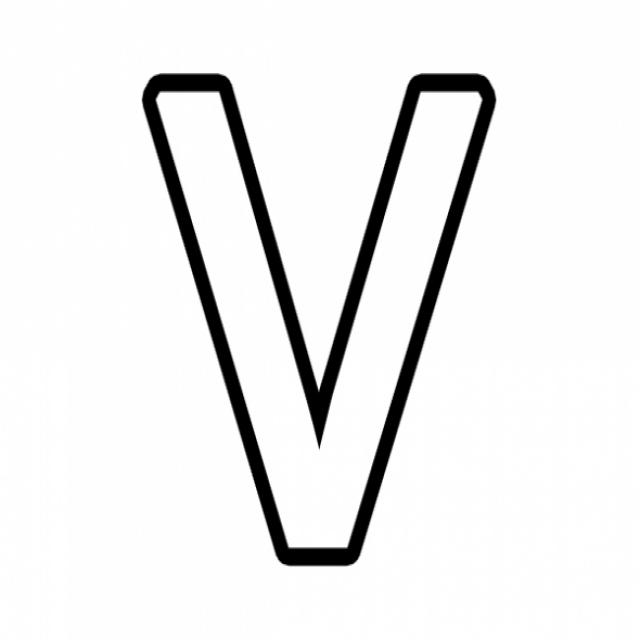V: (80, 15, 527, 576)
